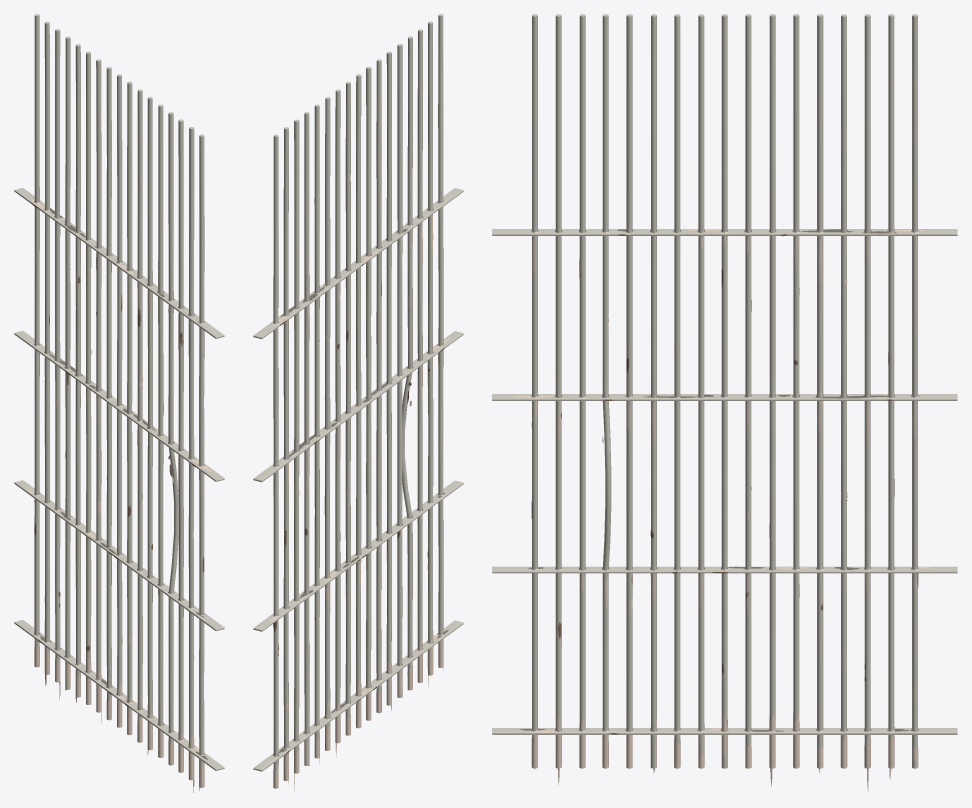
The model's file is bars_w2.glb.
The picture shows the model from 3 angles, left to right: view 1: azimuth 30°, elevation 25°; view 2: azimuth 150°, elevation 25°; view 3: azimuth 270°, elevation 25°; orthographic projection. The views are drawn at different scales.
Visible parts, largest first — view 1: teil, teil.002, teil.003, teil.004, teil.001; view 2: teil, teil.002, teil.004, teil.001; view 3: teil, teil.002.
Boxes of the visible parts, <box> form: teil: <box>14,14,224,772</box>; teil.002: <box>28,199,211,792</box>; teil.003: <box>31,203,204,706</box>; teil.004: <box>34,216,194,748</box>; teil.001: <box>40,208,207,759</box>; teil: <box>253,14,463,772</box>; teil.002: <box>269,201,449,792</box>; teil.004: <box>273,208,433,756</box>; teil.001: <box>278,228,448,752</box>; teil: <box>492,14,957,768</box>; teil.002: <box>513,229,932,790</box>.
Size of the model in its own units: 0.0884 by 4.24 by 2.3.
